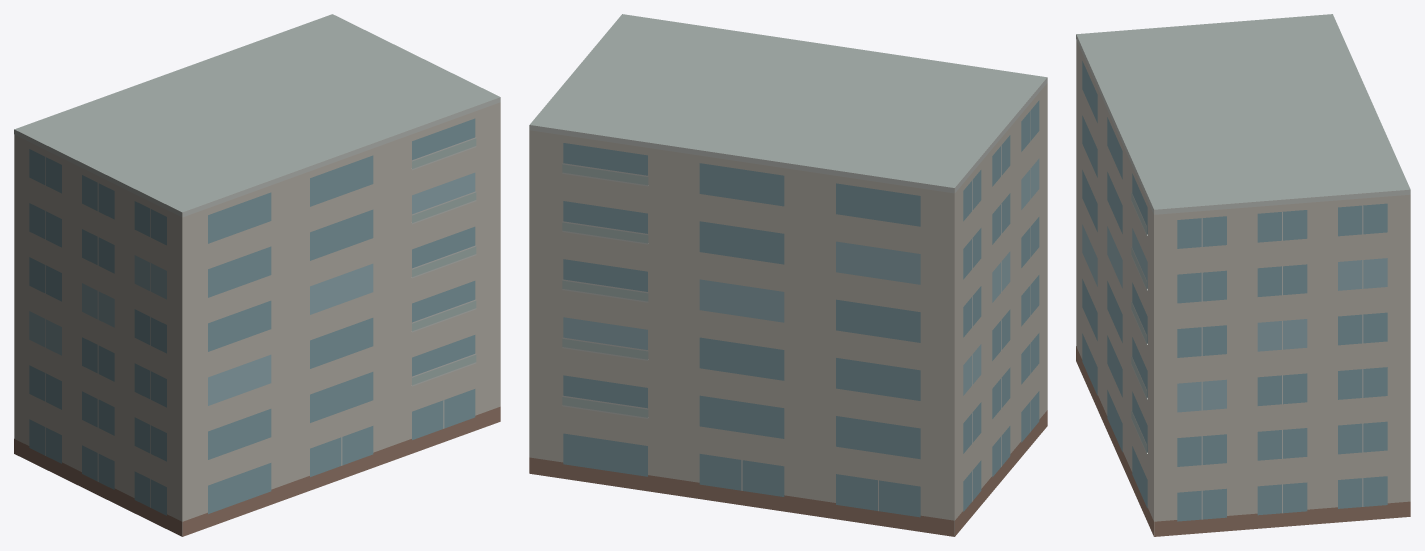
File: survey-upis-33013375.glb
3 views of the same model, side by side, from view 1: azimuth 30°, elevation 25°; view 2: azimuth 150°, elevation 25°; view 3: azimuth 270°, elevation 25° (orthographic). The views are drawn at different scales.
Visible parts, largest first — view 1: survey-upis-33013375.tmp; view 2: survey-upis-33013375.tmp; view 3: survey-upis-33013375.tmp.
Part boxes in pixels (left/top/right/bottom): survey-upis-33013375.tmp: left=14, top=14, right=500, bottom=536; survey-upis-33013375.tmp: left=529, top=14, right=1047, bottom=536; survey-upis-33013375.tmp: left=1076, top=14, right=1410, bottom=536.
Bounding box in the file's own units: 20.23 × 15.75 × 14.61.
